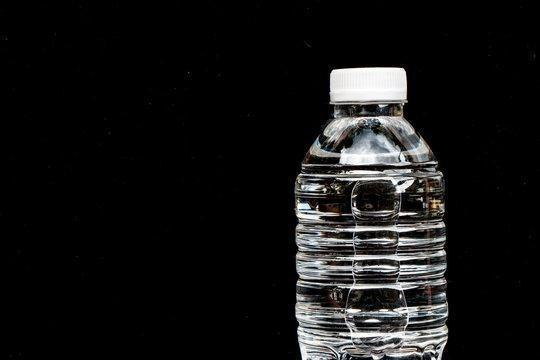bottle-plastic: (290, 63, 453, 360)
